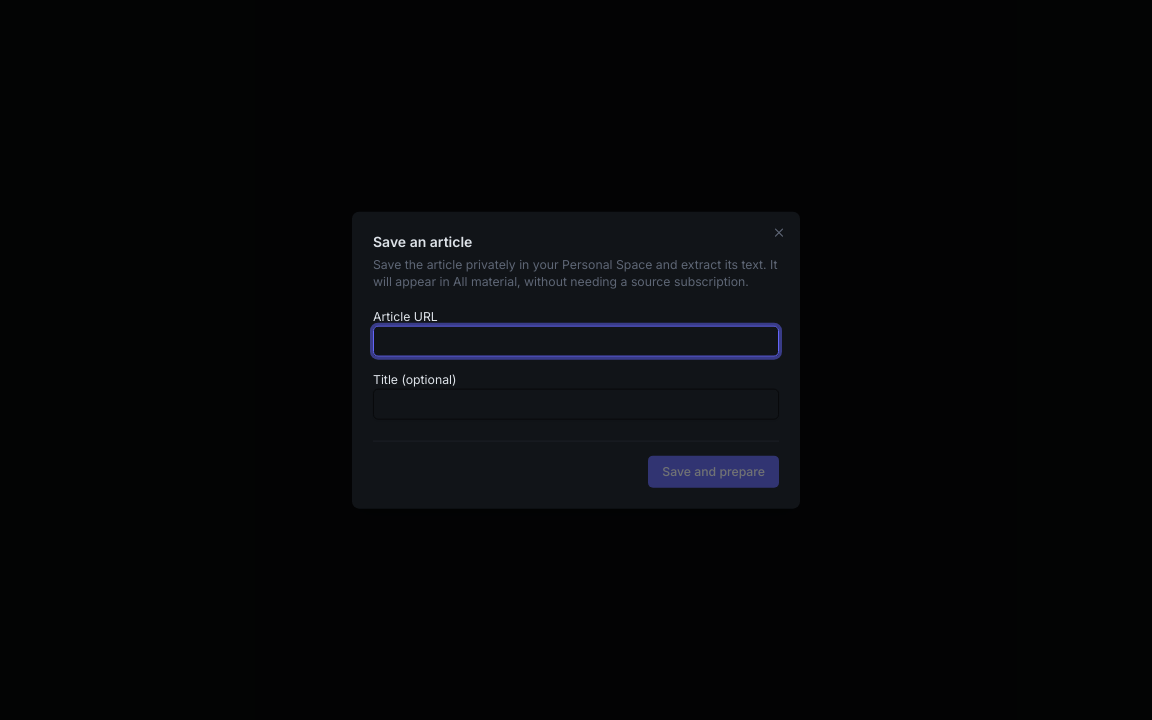
Test: starts preparation before its panel observes it, so a queued Run is never shown as idle
The image size is (1152, 720).
Type "https://example.test/a" into the field labelled "Article URL" at (576,341), box x1=373 y1=325 x2=779 y2=357
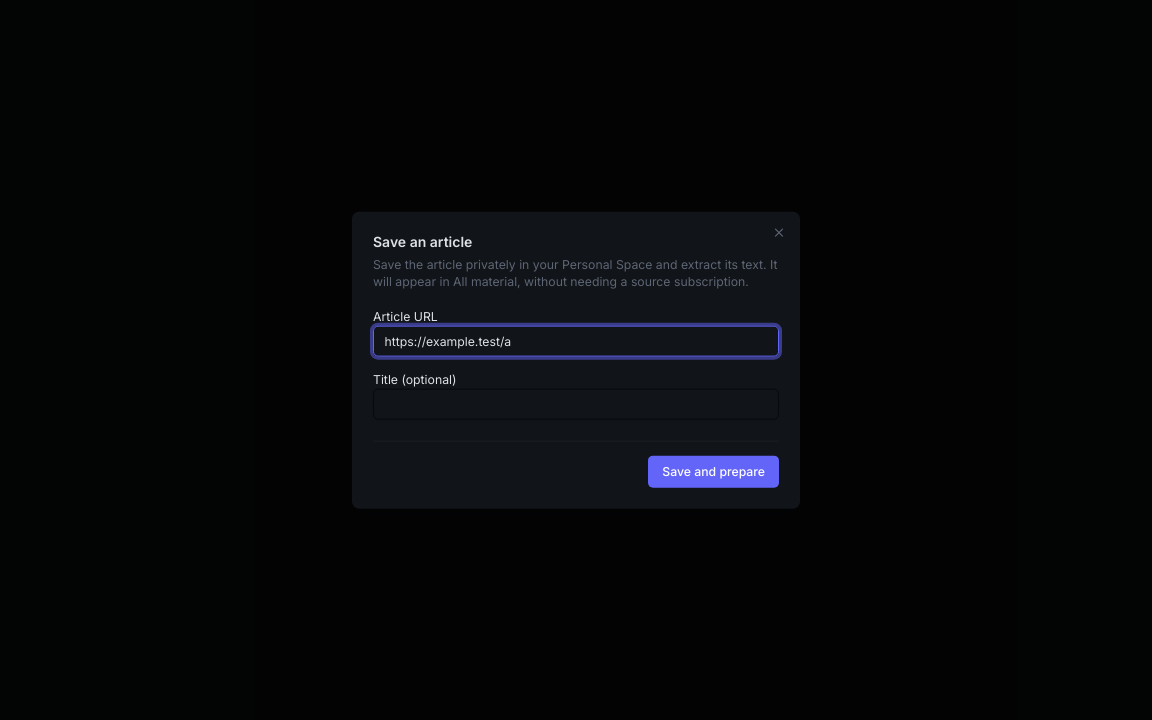
Click the button "Save and prepare" at (714,472), box x1=648 y1=456 x2=779 y2=487
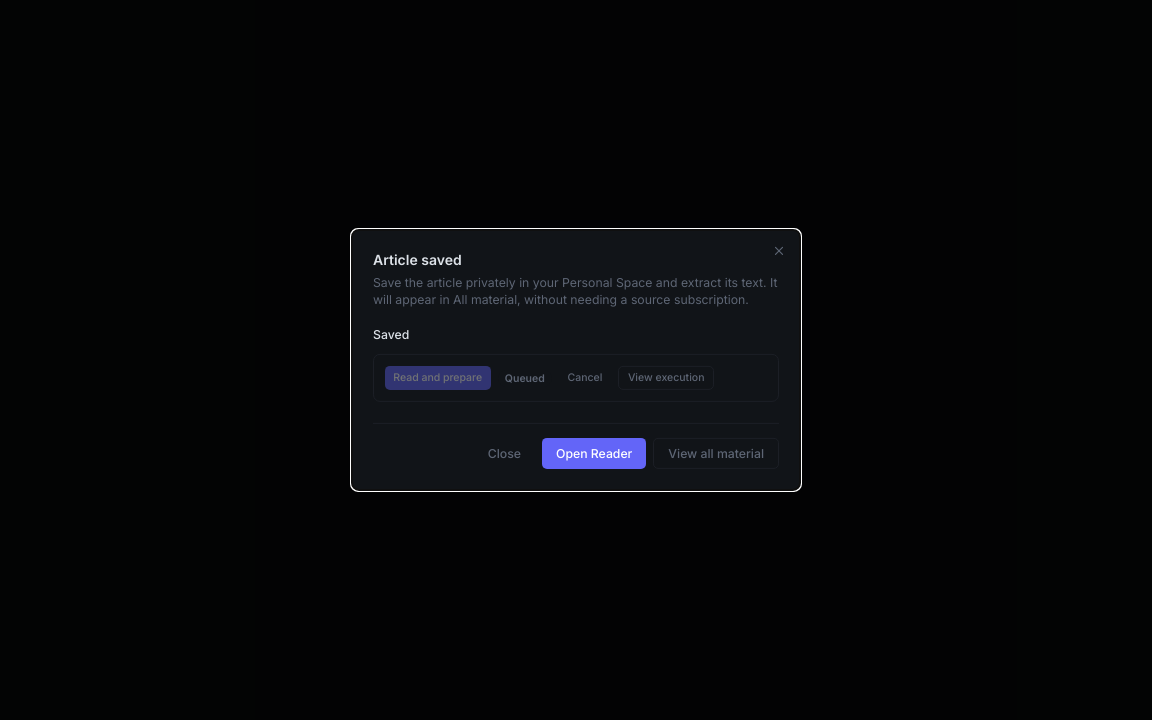
Result: the text "Queued" is shown at x1=498 y1=370 x2=552 y2=387
Result: the link "Open Reader" is shown at x1=542 y1=438 x2=646 y2=469
Result: the link "View all material" is shown at x1=653 y1=438 x2=779 y2=469
